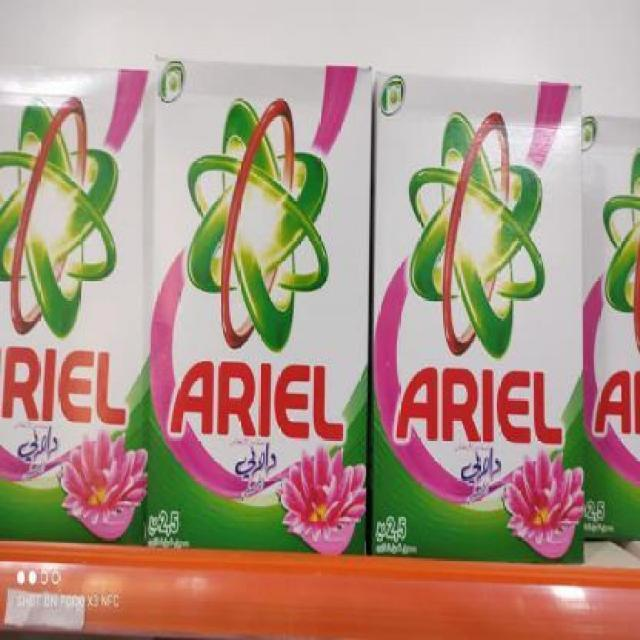Detergent: (151, 33, 364, 556), (376, 59, 584, 556), (0, 64, 154, 538)
